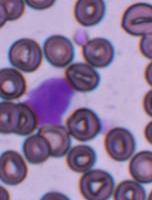M: (25, 76, 76, 127)
